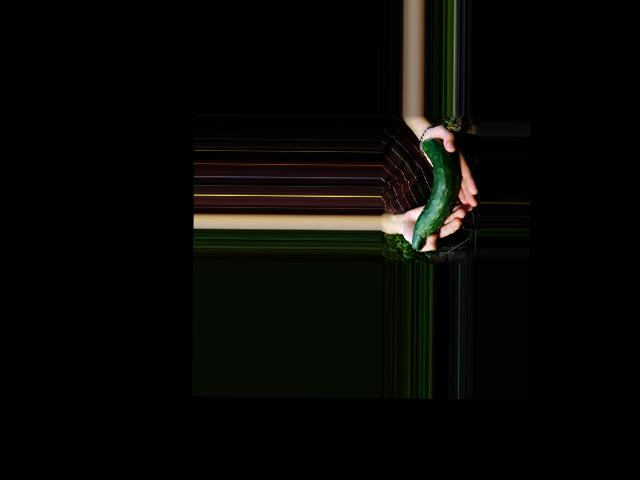cucumber: (411, 137, 459, 250)
